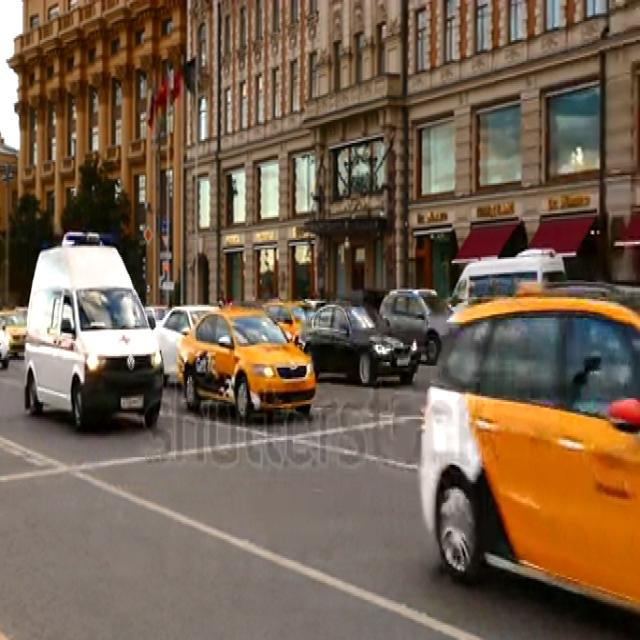ambulance: (20, 227, 166, 438)
